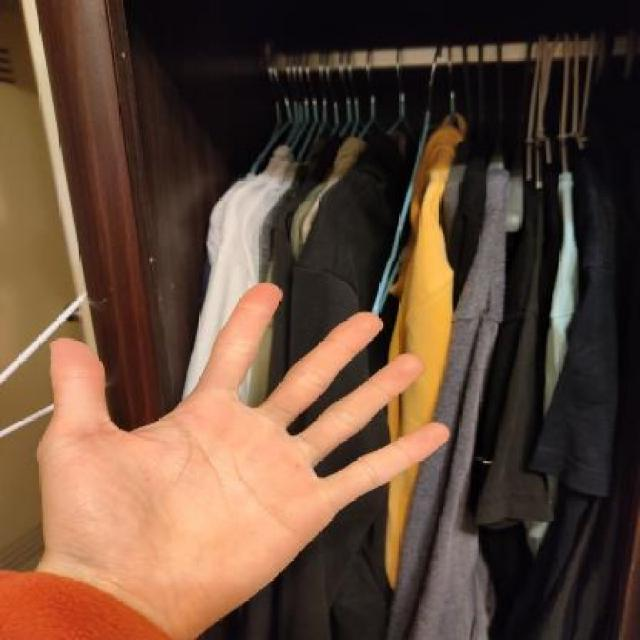hand: (8, 257, 470, 640)
